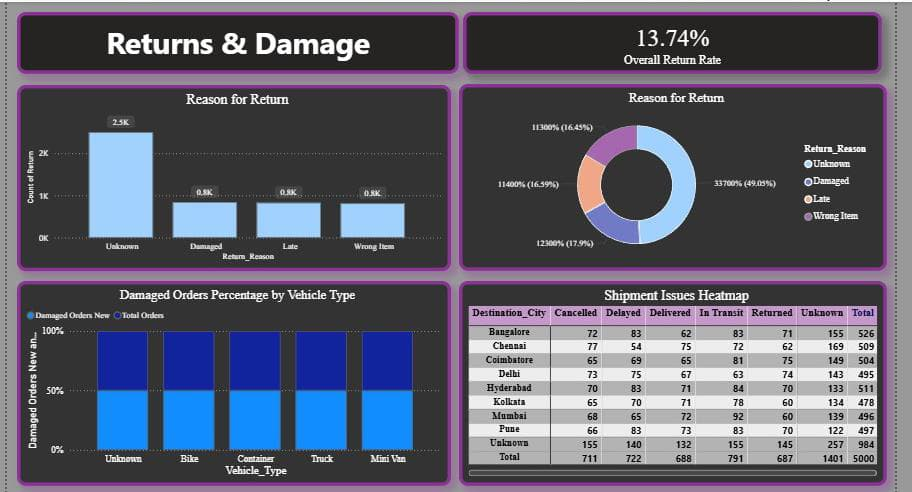

Layout of this report page (visuals, bound fields, positions):
{"tool":"powerbi","page":{"name":"Dashboard 3 – Returns & Damage","canvas":[1280,720],"ordinal":2},"visuals":[{"type":"card","fields":{"Values":["Delivery_Status =  Delayed.Return Rate (%)"]},"box":[656.6,14.4,603.4,89.3],"z":0},{"type":"clusteredColumnChart","title":"Reason for Return","fields":{"Category":["Logistics_Cleaned_Dataset.Return_Reason"],"Y":["CountNonNull(Logistics_Cleaned_Dataset.Order_ID)"]},"box":[14.4,119.5,625,267.8],"z":1000},{"type":"hundredPercentStackedColumnChart","title":"Damaged Orders Percentage by Vehicle Type","fields":{"Category":["Logistics_Cleaned_Dataset.Vehicle_Type"],"Y":["Logistics_Cleaned_Dataset.Damaged Orders New","Delivery_Status =  Delayed.Total Orders"]},"box":[14.4,401.8,625,295.2],"z":2000},{"type":"donutChart","title":"Reason for Return","fields":{"Category":["Logistics_Cleaned_Dataset.Return_Reason"],"Y":["Delivery_Status =  Delayed.Returned Orders"]},"box":[650.9,118.1,616.3,269.3],"z":3000},{"type":"pivotTable","title":"Shipment Issues Heatmap","fields":{"Rows":["Logistics_Cleaned_Dataset.Destination_City"],"Columns":["Logistics_Cleaned_Dataset.Delivery_Status"],"Values":["CountNonNull(Logistics_Cleaned_Dataset.Order_ID)"]},"box":[650.9,401.8,616.3,295.2],"z":4000},{"type":"textbox","box":[14.4,14.4,636.5,89.3],"z":6000}]}

Visuals, with their boxes on the page's 1280x720 design canvas (x1, y1, x2, y2). These are canvas units, not pixel positions in the 912x492 screenshot, which may show the page scaled, cropped or inside an application window:
card - Delivery_Status =  Delayed.Return Rate (%): [left=657, top=14, right=1260, bottom=104]
"Reason for Return" clusteredColumnChart: [left=14, top=120, right=639, bottom=387]
"Damaged Orders Percentage by Vehicle Type" hundredPercentStackedColumnChart: [left=14, top=402, right=639, bottom=697]
"Reason for Return" donutChart: [left=651, top=118, right=1267, bottom=387]
"Shipment Issues Heatmap" pivotTable: [left=651, top=402, right=1267, bottom=697]
textbox: [left=14, top=14, right=651, bottom=104]
